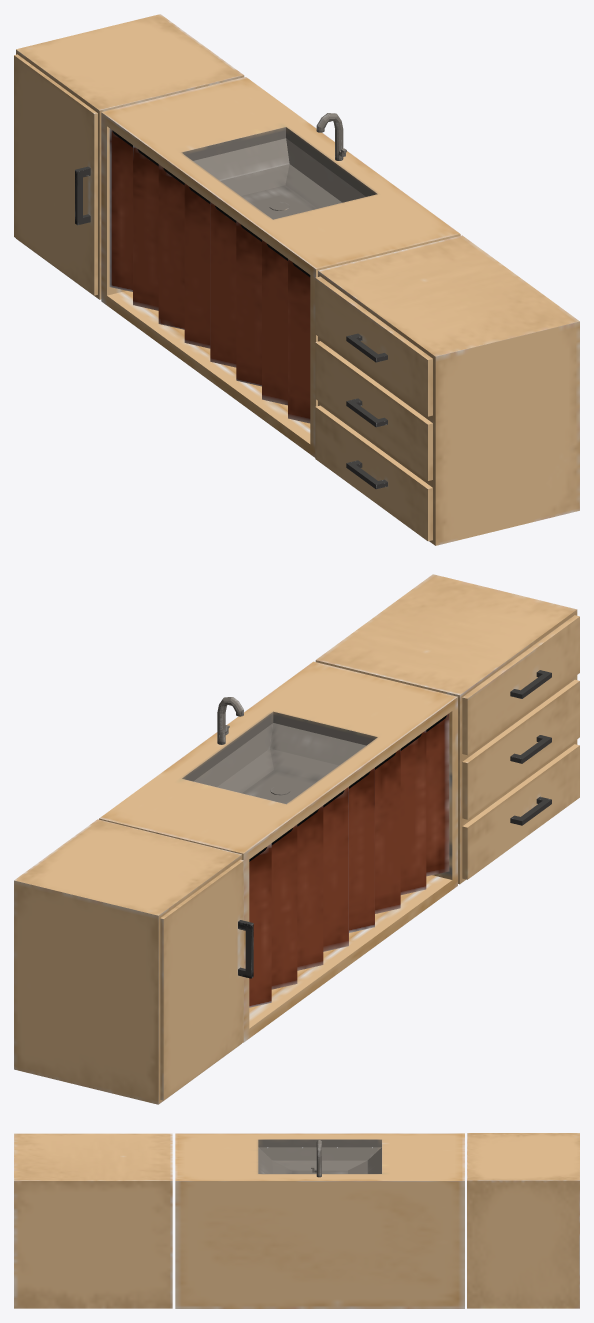
Rendered from pollo_para_texturizar.obj.
The picture shows the model from 3 angles, top to bottom: view 1: azimuth 30°, elevation 25°; view 2: azimuth 150°, elevation 25°; view 3: azimuth 270°, elevation 25°; orthographic projection. The views are drawn at different scales.
Parts seen in each view (by area): view 1: Cube.001, Cube.005, Plane, Cube.007; view 2: Cube.007, Cube.005, Cube.001, Plane; view 3: Cube.005, Cube.001, Cube.007, Cylinder.001.
Part boxes in pixels (box(x1,y1,x2,y2)): Cube.001: box(315, 235, 579, 545); Cube.005: box(101, 77, 460, 457); Plane: box(109, 128, 310, 423); Cube.007: box(14, 14, 244, 299); Cube.007: box(14, 819, 243, 1104); Cube.005: box(99, 661, 457, 1042); Cube.001: box(315, 574, 579, 884); Plane: box(249, 713, 449, 1007); Cube.005: box(175, 1133, 464, 1308); Cube.001: box(14, 1133, 172, 1308); Cube.007: box(467, 1133, 579, 1308); Cylinder.001: box(311, 1140, 321, 1177).
Size of the model in its own units: 1.79 by 2.52 by 8.03.
1 material, 1 textured.
